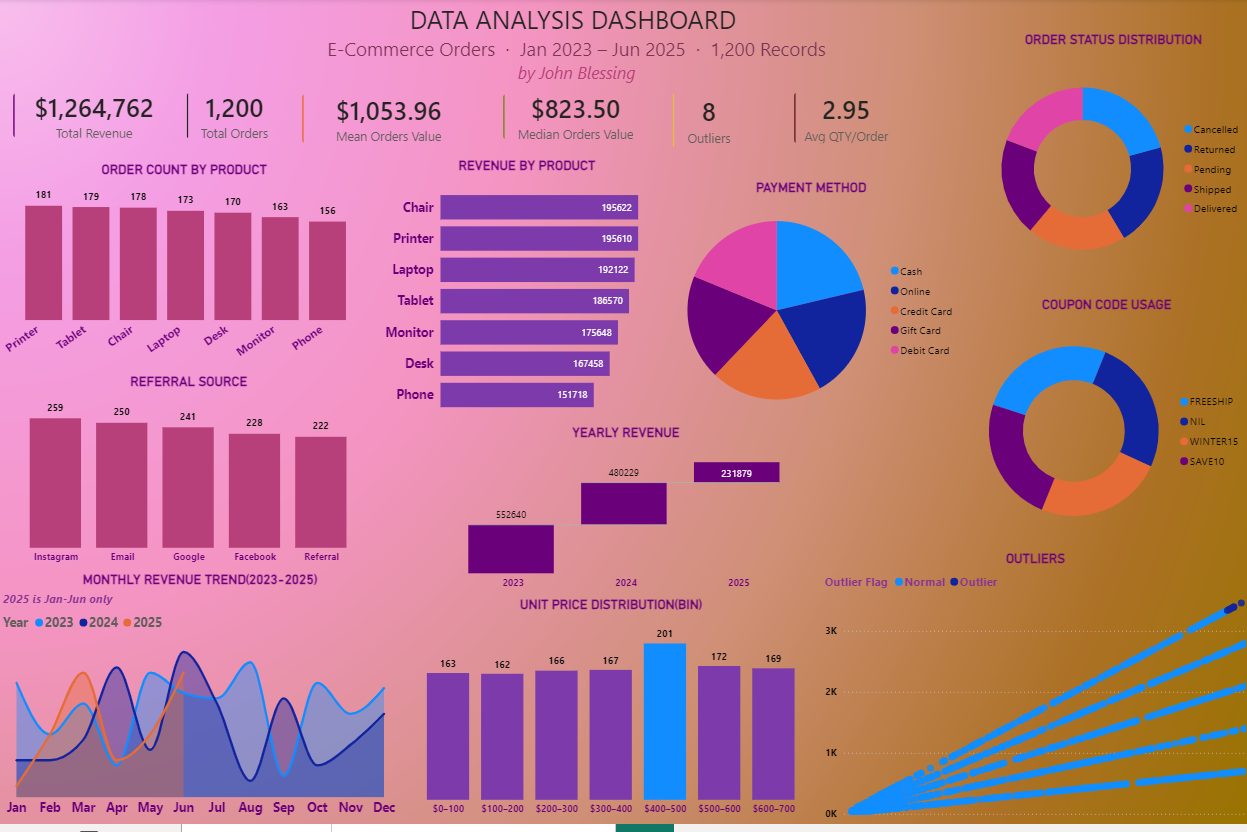

This screenshot's page, from the dashboard's own definition file:
{"tool":"powerbi","page":{"name":"Dashboard","canvas":[1600,1056],"ordinal":0},"visuals":[{"type":"donutChart","title":"ORDER STATUS DISTRIBUTION","fields":{"Category":["Cleanead data.OrderStatus"],"Y":["CountNonNull(Cleanead data.CustomerID)"]},"box":[1250.3,42.2,349,331.8],"z":0},{"type":"cardVisual","fields":{"Data":["Cleanead data.Total Orders"]},"box":[222.5,103.6,157.3,94],"z":1000},{"type":"columnChart","title":"ORDER COUNT BY PRODUCT","fields":{"Category":["Cleanead data.Product"],"Y":["CountNonNull(Cleanead data.Quantity)"]},"box":[0,209,473.7,270.4],"z":2000},{"type":"lineChart","title":"MONTHLY REVENUE TREND(2023-2025)","fields":{"Category":["Cleanead data.Short Month"],"Series":["Cleanead data.Date.Variation.Date Hierarchy.Year"],"Y":["Cleanead data.Total Orders"]},"box":[0,732.6,513.9,324.1],"z":3000},{"type":"columnChart","title":"REFERRAL SOURCE","fields":{"Category":["Cleanead data.ReferralSource"],"Y":["CountNonNull(Cleanead data.CustomerID)"]},"box":[0,479.4,485.2,253.1],"z":4000},{"type":"pieChart","title":"PAYMENT METHOD","fields":{"Category":["Cleanead data.PaymentMethod"],"Y":["Sum(Cleanead data.Quantity)"]},"box":[843.8,232,389.3,314.5],"z":5000},{"type":"waterfallChart","title":"YEARLY REVENUE","fields":{"Category":["Cleanead data.Date.Variation.Date Hierarchy.Year"],"Y":["Sum(Cleanead data.TotalPrice)"]},"box":[537,544.6,529.3,220.5],"z":6000},{"type":"cardVisual","fields":{"Data":["Cleanead data.Mean Orders Value"]},"box":[370.1,105.5,257,97.8],"z":7000},{"type":"cardVisual","fields":{"Data":["Cleanead data.Median Orders Value"]},"box":[627.1,105.5,220.5,92.1],"z":8000},{"type":"cardVisual","fields":{"Data":["Cleanead data.AVG/orders"]},"box":[999.1,103.6,168.8,99.7],"z":9000},{"type":"cardVisual","fields":{"Data":["Cleanead data.High Value Orders"]},"box":[843.8,103.6,128.5,105.5],"z":10000},{"type":"donutChart","title":"COUPON CODE USAGE","fields":{"Category":["Cleanead data.CouponCode"],"Y":["CountNonNull(Cleanead data.OrderID)"]},"box":[1233.1,381.6,366.3,324.1],"z":11000},{"type":"clusteredBarChart","title":"REVENUE BY PRODUCT","fields":{"Category":["Cleanead data.Product"],"Y":["Sum(Cleanead data.TotalPrice)"]},"box":[487.1,203.3,375.9,341.4],"z":12000},{"type":"columnChart","title":"UNIT PRICE DISTRIBUTION(BIN)","fields":{"Series":["Cleanead data.Price Bin"],"Category":["Cleanead data.Price Bin"],"Y":["Cleanead data.Total Orders"]},"box":[513.9,765.2,537,289.6],"z":13000},{"type":"cardVisual","fields":{"Data":["Cleanead data.Total Revenue"]},"box":[0,103.6,243.5,94],"z":14000},{"type":"scatterChart","title":"OUTLIERS","fields":{"X":["Cleanead data.UnitPrice"],"Series":["Cleanead data.Outlier Flag"],"Y":["Cleanead data.TotalPrice"]},"box":[1050.9,705.7,548.5,350.9],"z":15000},{"type":"textbox","box":[314.5,0,847.6,124.7],"z":16000}]}

Visuals, with their boxes in screenshot pixels (x1, y1, x2, y2), scaled from the page's 1600x1056 canvas onto the 1247x832 screenshot:
"ORDER STATUS DISTRIBUTION" donutChart: <bbox>974, 33, 1246, 295</bbox>
cardVisual - Cleanead data.Total Orders: <bbox>173, 82, 296, 156</bbox>
"ORDER COUNT BY PRODUCT" columnChart: <bbox>0, 165, 369, 378</bbox>
"MONTHLY REVENUE TREND(2023-2025)" lineChart: <bbox>0, 577, 401, 831</bbox>
"REFERRAL SOURCE" columnChart: <bbox>0, 378, 378, 577</bbox>
"PAYMENT METHOD" pieChart: <bbox>658, 183, 961, 431</bbox>
"YEARLY REVENUE" waterfallChart: <bbox>419, 429, 831, 603</bbox>
cardVisual - Cleanead data.Mean Orders Value: <bbox>288, 83, 489, 160</bbox>
cardVisual - Cleanead data.Median Orders Value: <bbox>489, 83, 661, 156</bbox>
cardVisual - Cleanead data.AVG/orders: <bbox>779, 82, 910, 160</bbox>
cardVisual - Cleanead data.High Value Orders: <bbox>658, 82, 758, 165</bbox>
"COUPON CODE USAGE" donutChart: <bbox>961, 301, 1246, 556</bbox>
"REVENUE BY PRODUCT" clusteredBarChart: <bbox>380, 160, 673, 429</bbox>
"UNIT PRICE DISTRIBUTION(BIN)" columnChart: <bbox>401, 603, 819, 831</bbox>
cardVisual - Cleanead data.Total Revenue: <bbox>0, 82, 190, 156</bbox>
"OUTLIERS" scatterChart: <bbox>819, 556, 1246, 831</bbox>
textbox: <bbox>245, 0, 906, 98</bbox>
